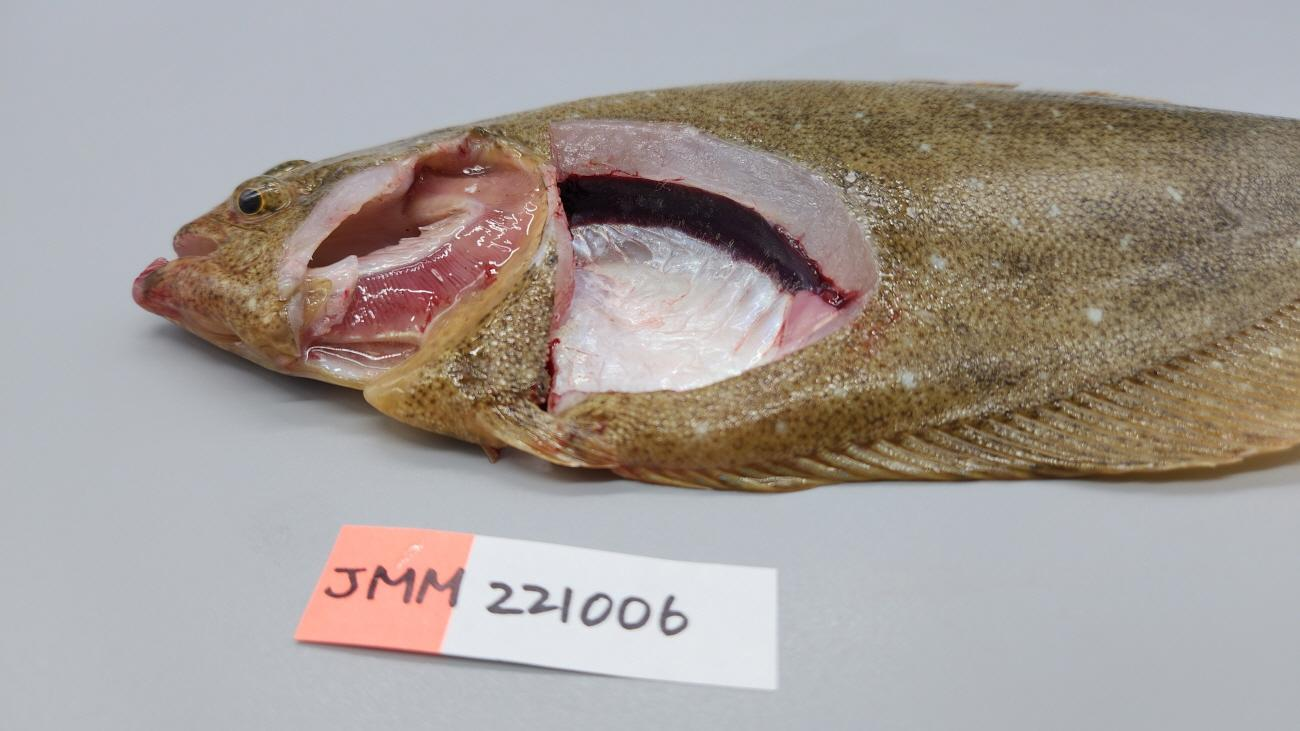POKIN: (556, 173, 846, 309)
